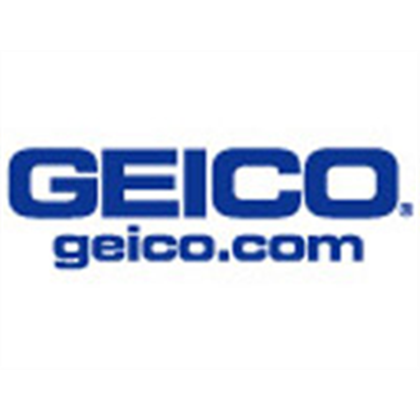Geico: (8, 144, 420, 221)
